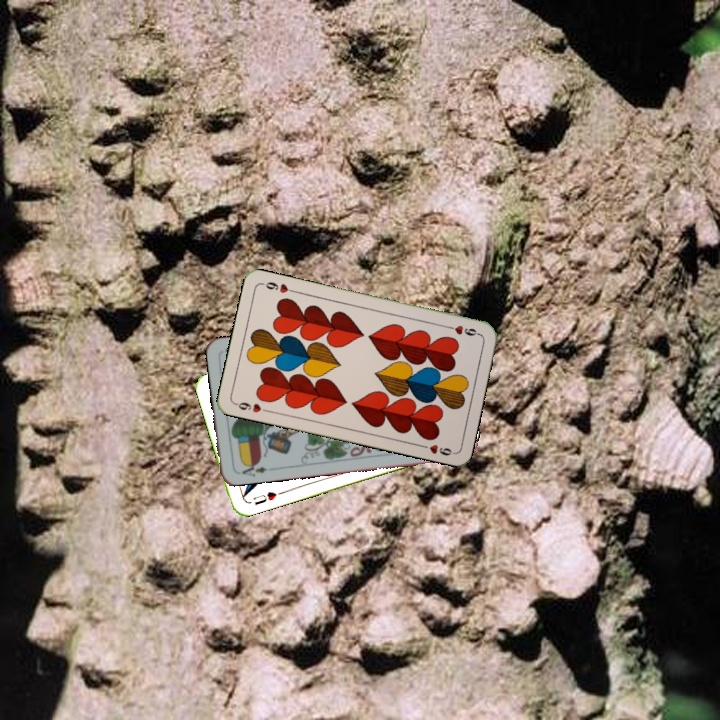EA: (238, 458, 269, 479)
H9: (231, 398, 271, 415), (442, 321, 482, 338)
HU: (249, 488, 279, 508)
